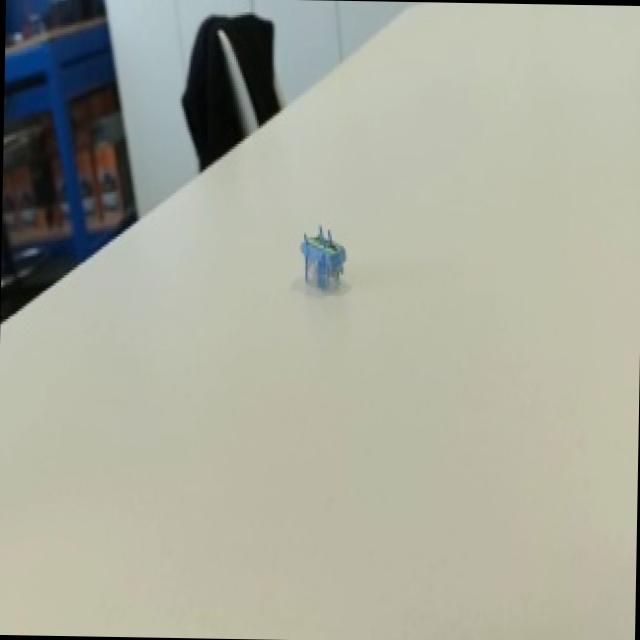3_NanoBug_Celeste: (284, 209, 368, 309)
